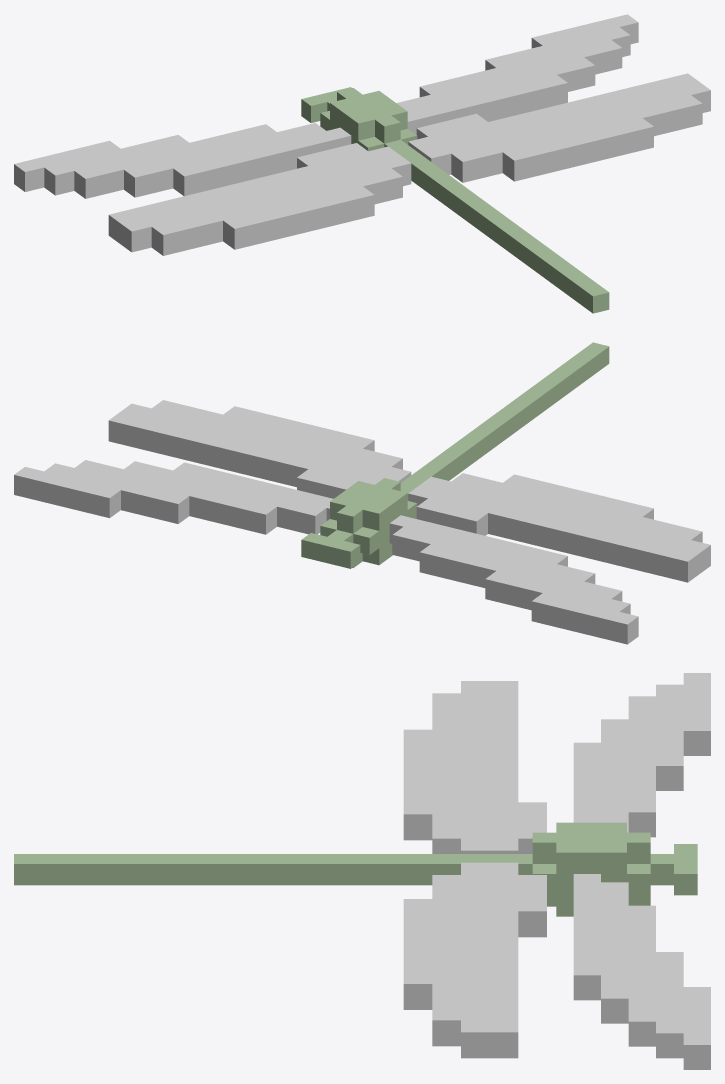
Rendered from Dragonfly.fbx.
The picture shows the model from 3 angles, top to bottom: view 1: azimuth 30°, elevation 25°; view 2: azimuth 150°, elevation 25°; view 3: azimuth 270°, elevation 25°; orthographic projection. The views are drawn at different scales.
Visible parts, largest first — view 1: Plane.002, Plane.017, Plane.001, Plane.016, Plane; view 2: Plane.002, Plane.017, Plane.016, Plane.001, Plane; view 3: Plane, Plane.017, Plane.002, Plane.016, Plane.001.
Part boxes in pixels (x1,y1,x2,y2): Plane.002: [108, 143, 411, 255]; Plane.017: [408, 73, 710, 182]; Plane.001: [14, 123, 351, 198]; Plane.016: [396, 14, 638, 134]; Plane: [301, 87, 609, 313]; Plane.002: [408, 473, 710, 582]; Plane.017: [108, 400, 411, 498]; Plane.016: [14, 460, 333, 534]; Plane.001: [389, 515, 638, 644]; Plane: [301, 342, 609, 568]; Plane: [14, 822, 697, 916]; Plane.017: [403, 862, 546, 1058]; Plane.002: [403, 681, 546, 853]; Plane.016: [573, 874, 710, 1069]; Plane.001: [573, 673, 710, 837].
Size of the model in its own units: 444 by 351 by 35.66.
